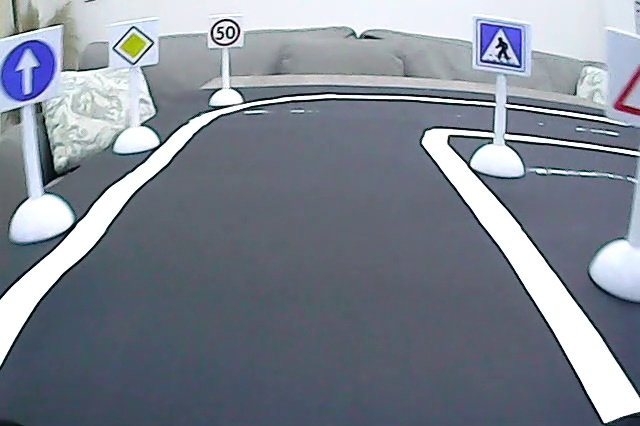pedestrian crossing: (476, 18, 527, 72)
speed limit 50: (211, 18, 240, 45)
